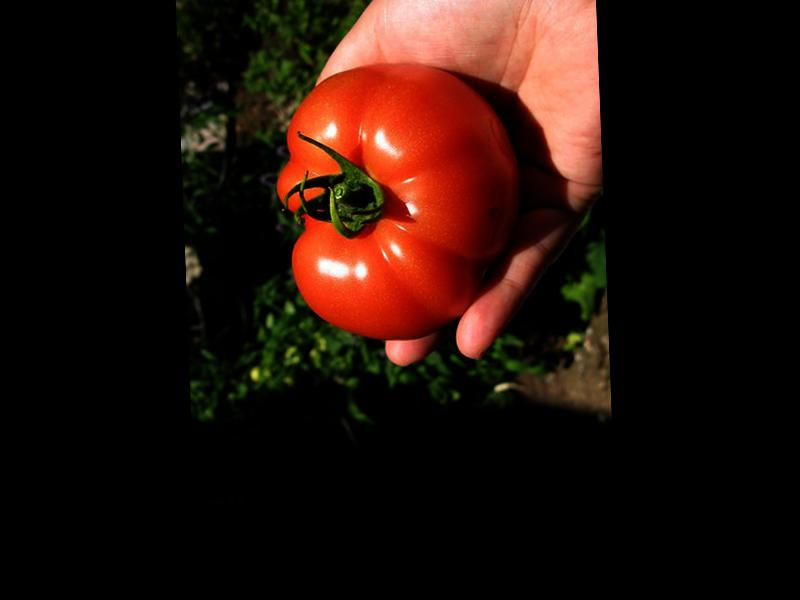Tomato: (272, 61, 521, 344)
